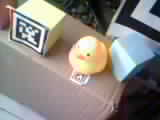duck: (69, 33, 104, 64)
